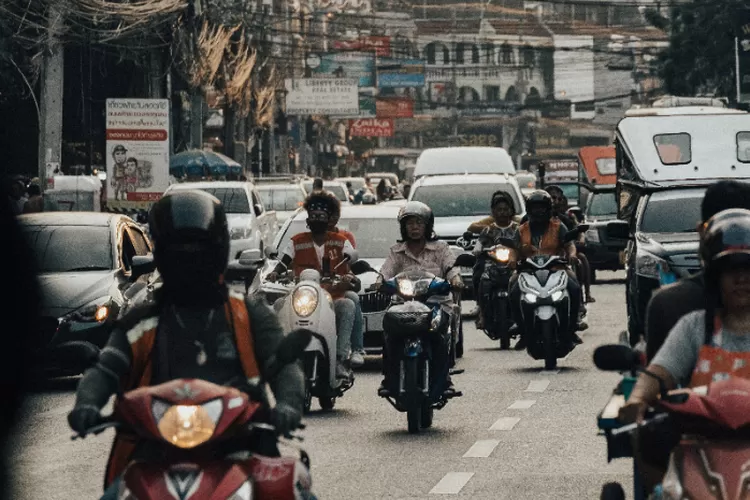mobil: (21, 191, 157, 317), (601, 166, 701, 289)
sepeda: (56, 324, 337, 497), (258, 237, 372, 427), (469, 229, 599, 382), (370, 261, 463, 446)
